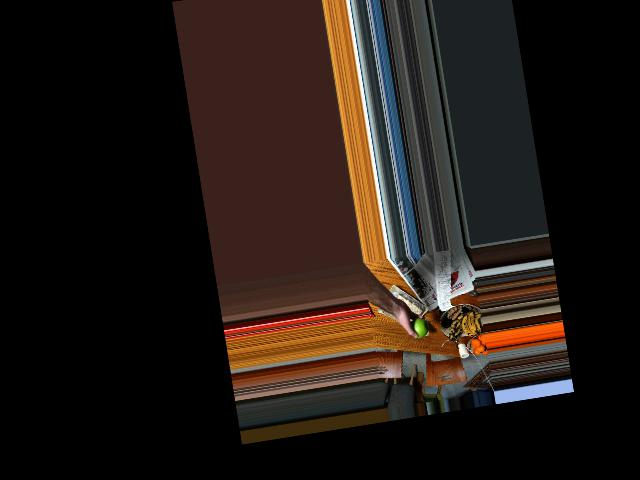apple: (406, 313, 430, 340)
